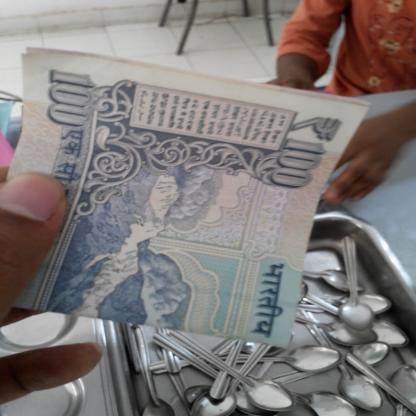Old100Back: (5, 46, 374, 349)
